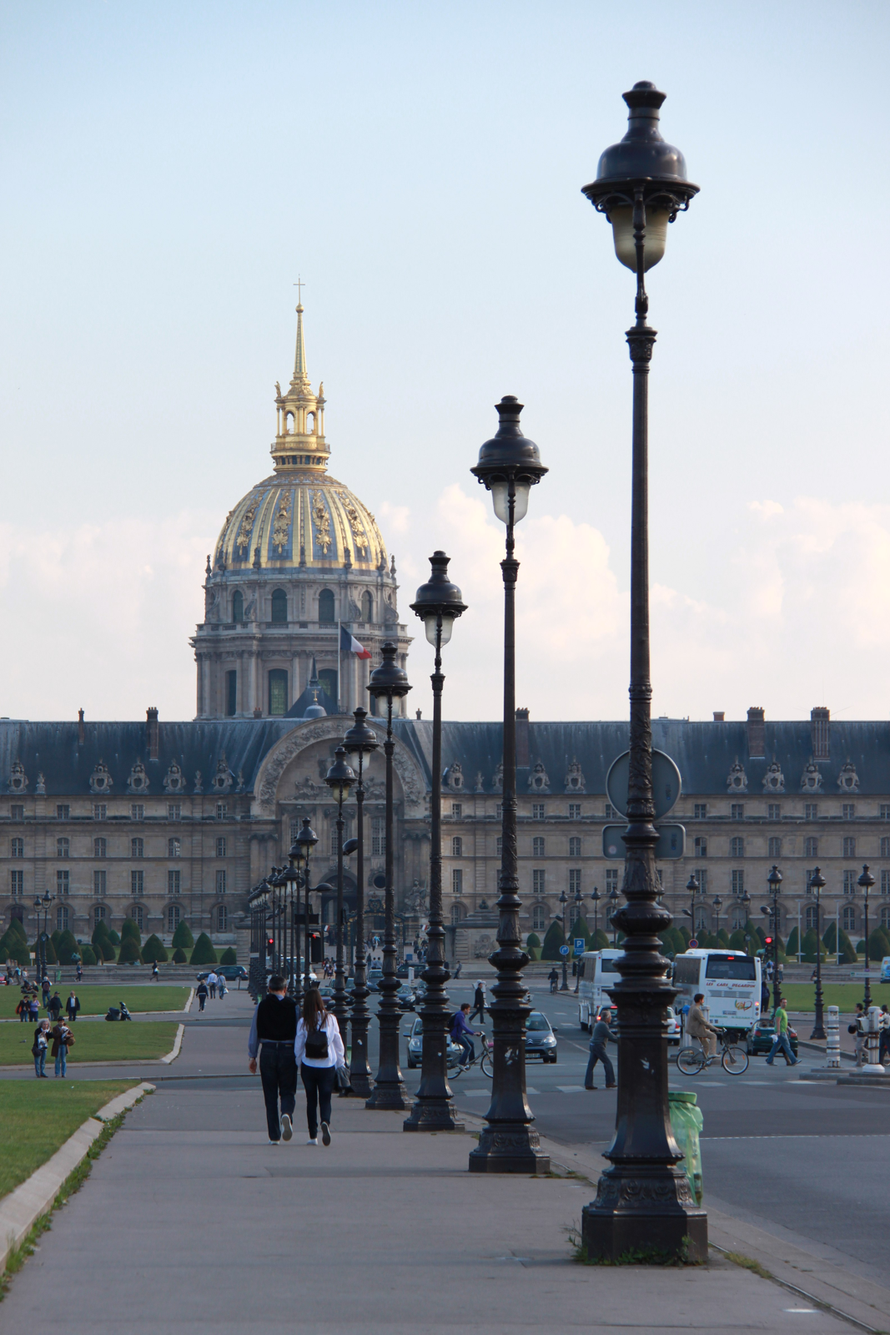fachada: (8, 305, 890, 968)
poste: (538, 83, 792, 1260), (446, 371, 609, 1143), (284, 597, 442, 1106), (380, 526, 505, 1114)
